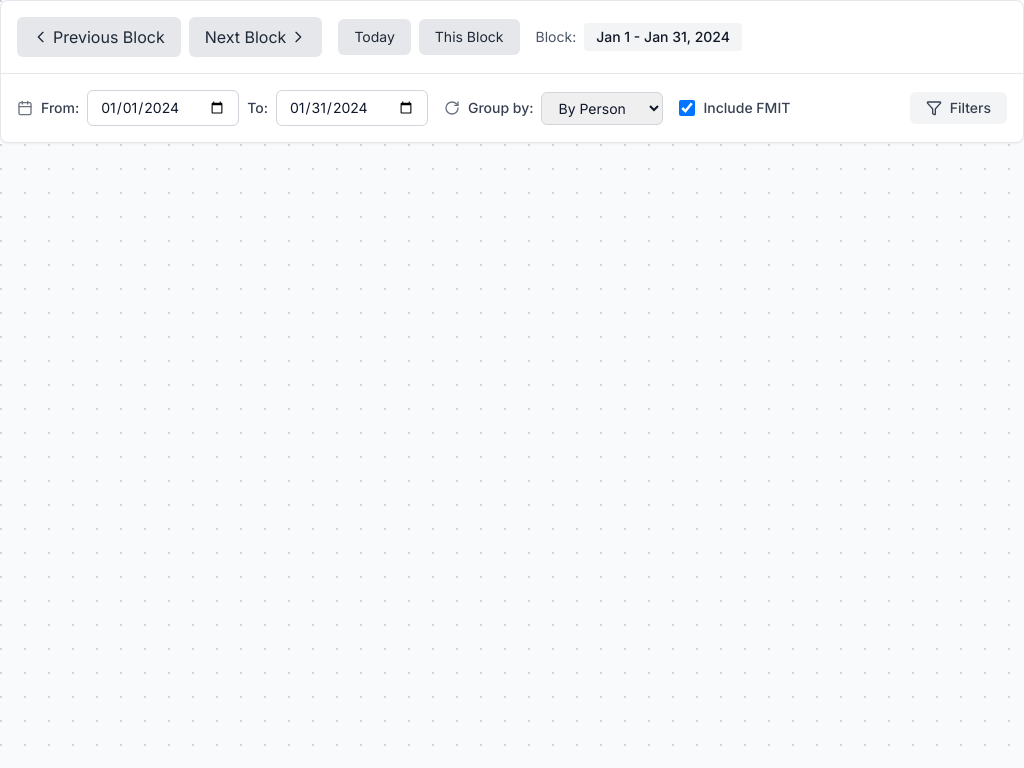
Scenario: HeatmapControls › Filters Panel Toggle › should hide filters panel when filters button is clicked again
Click the button "Filters": (958, 108) [910,92,1007,124]
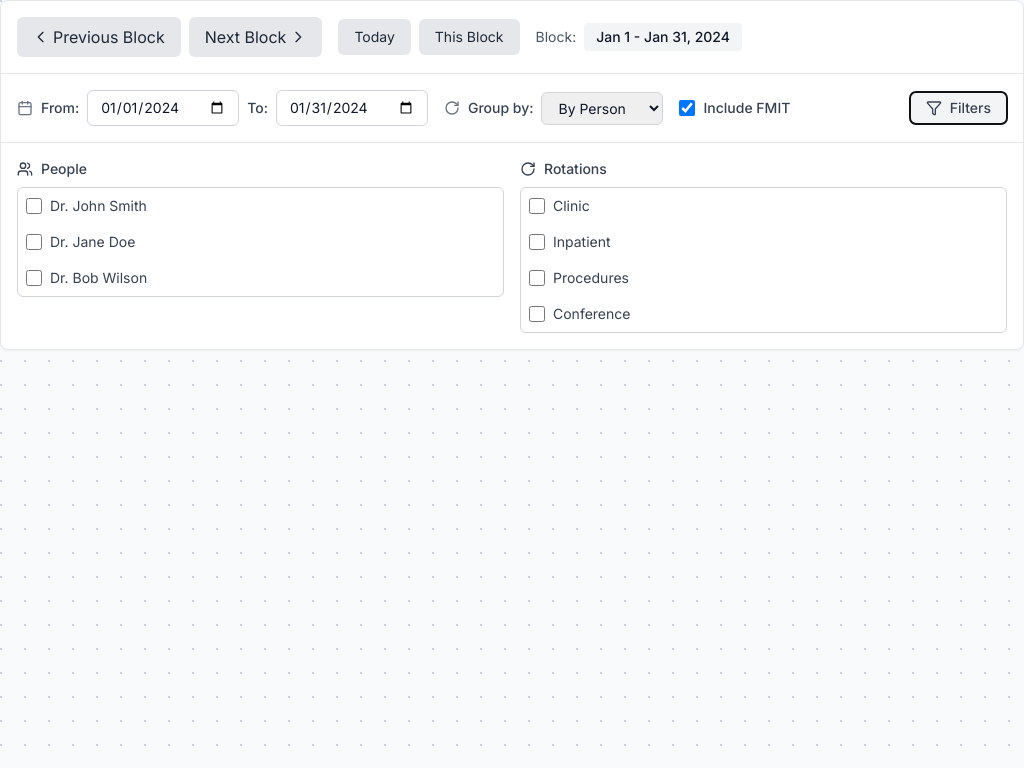
Click the button "Filters": (958, 108) [910,92,1007,124]
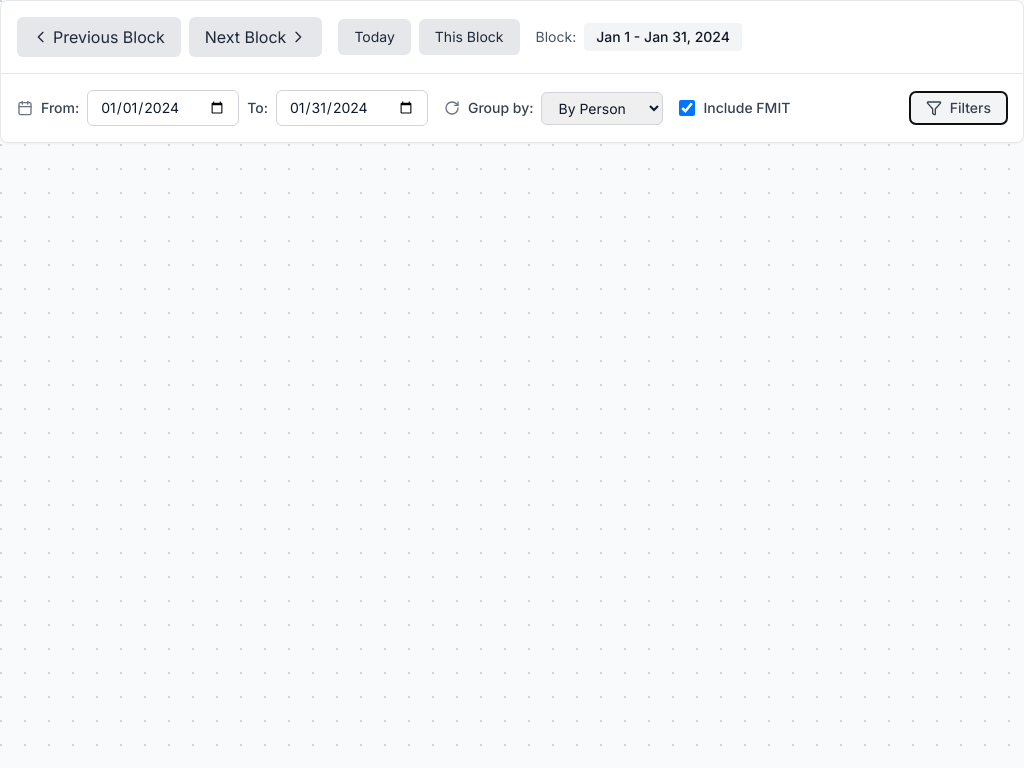
Check: the text "People" is gone
